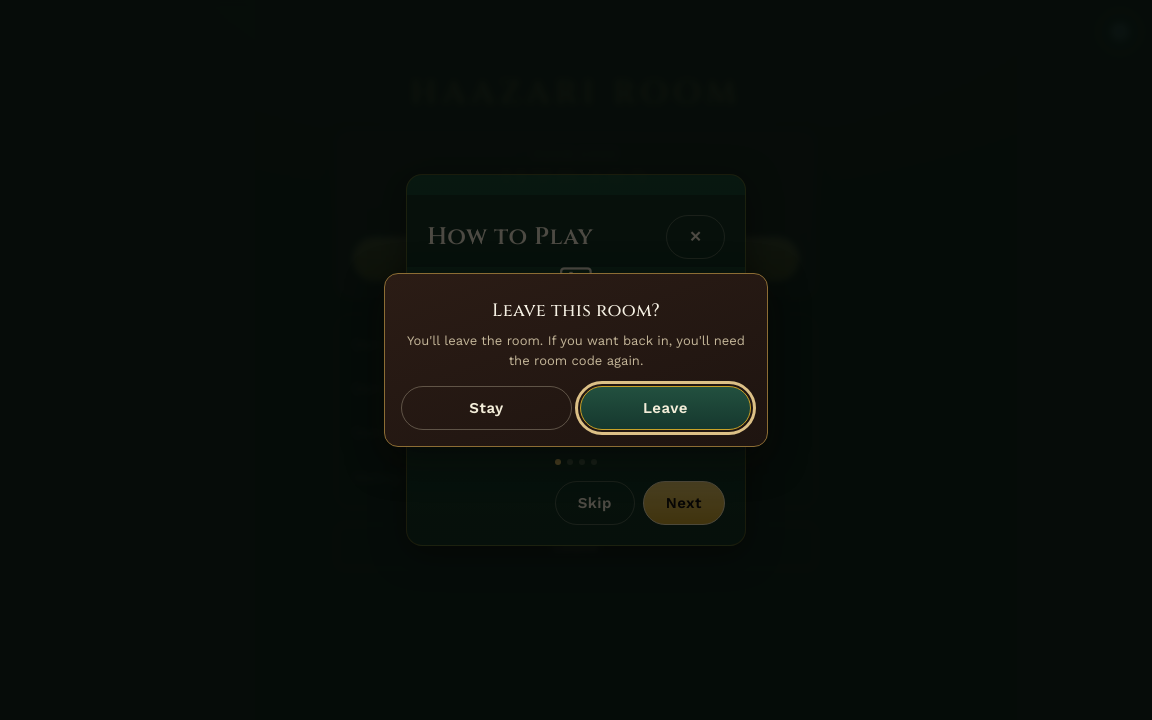
Scenario: Lobby: Back is guarded, never a silent exit › "Stay" dismisses the confirmation without leaving
Click the button "Stay": (486, 408) [401,386,572,430]
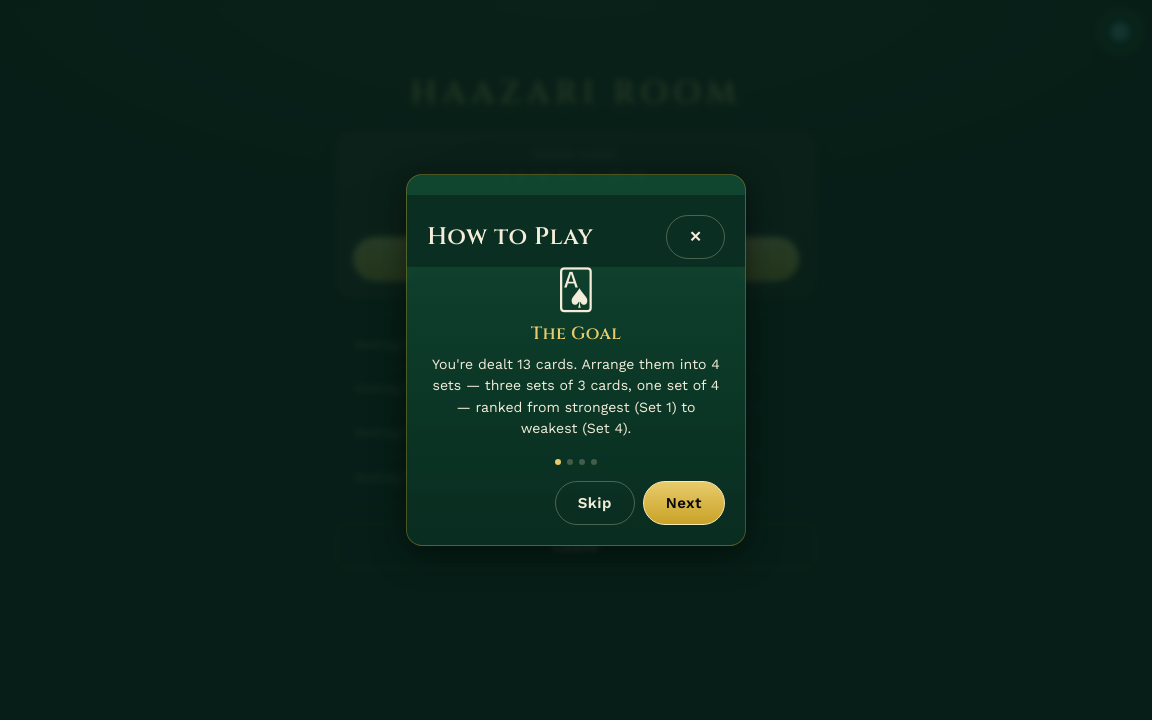
Check: the heading "Leave this room" is gone
